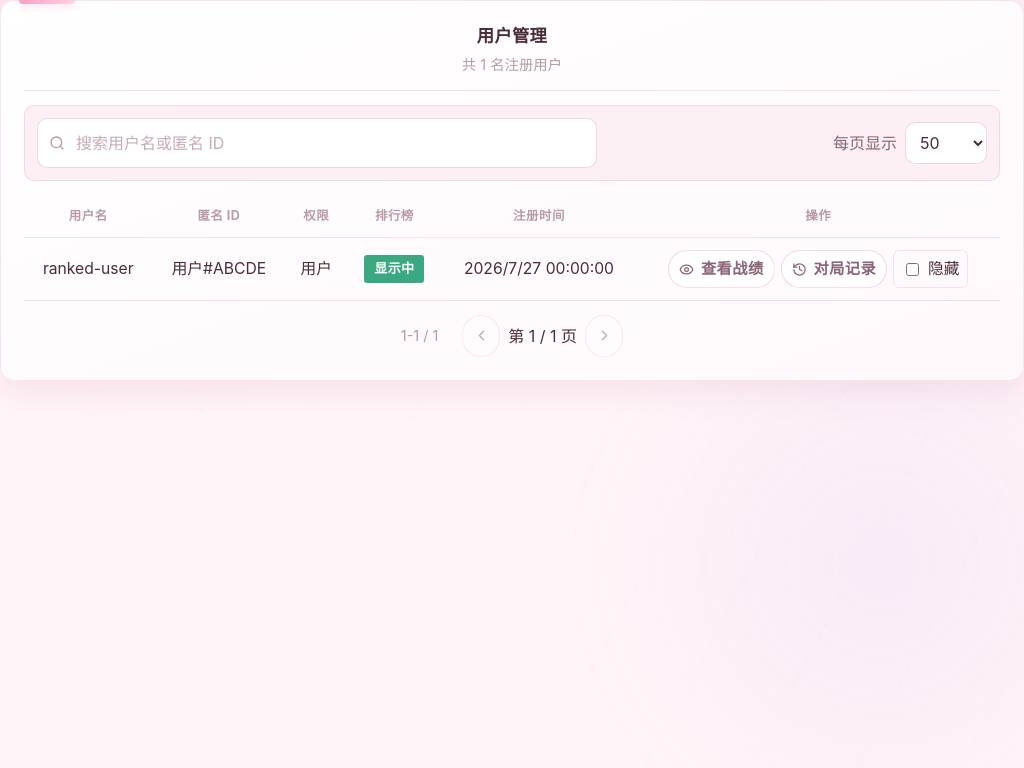
Test: AdminUsers › hides a user from leaderboards with the row toggle
Expected: the text "显示中" is shown, [364,255,424,283]
Click the checkbox named "从排行榜隐藏 ranked-user".
click(913, 269)  # box [906,262,919,276]
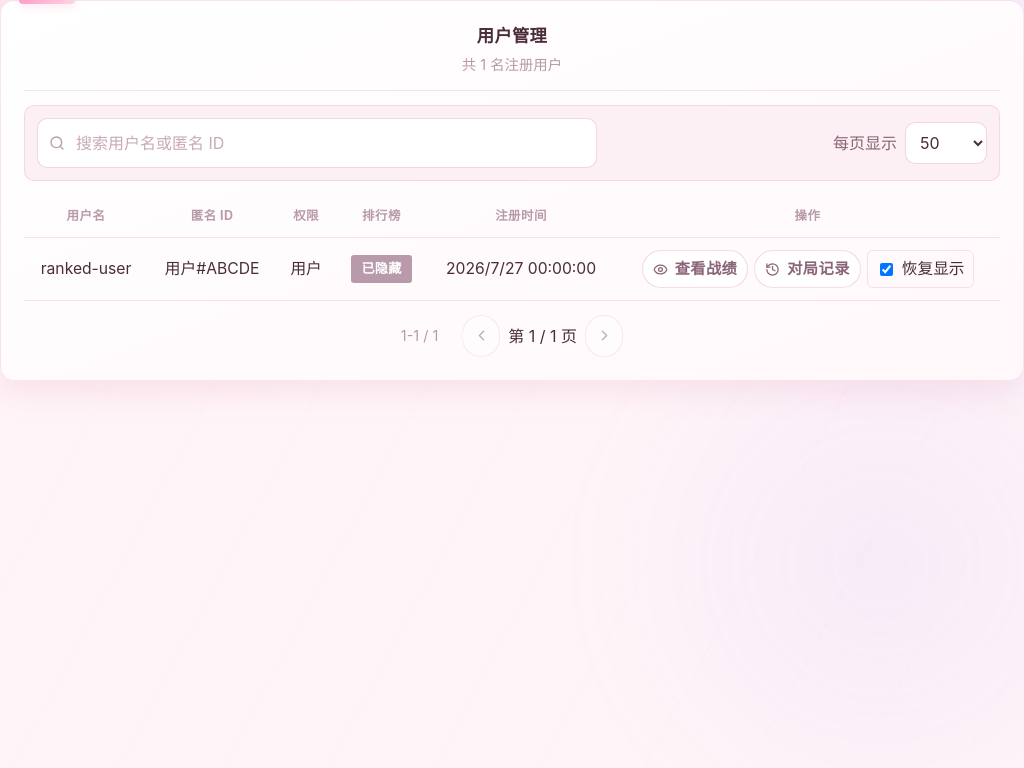
Expected: the checkbox named "从排行榜隐藏 ranked-user" is checked, [880,262,893,276]
Expected: the text "已隐藏" is shown, [351,255,412,283]
